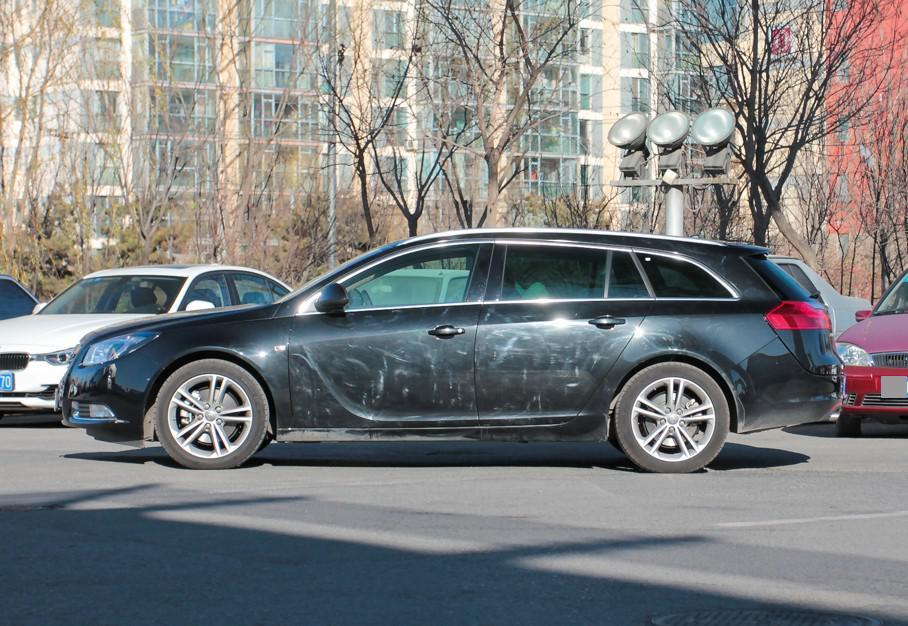Wagon: (63, 226, 846, 471)
